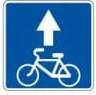road_sign: (4, 0, 95, 91)
